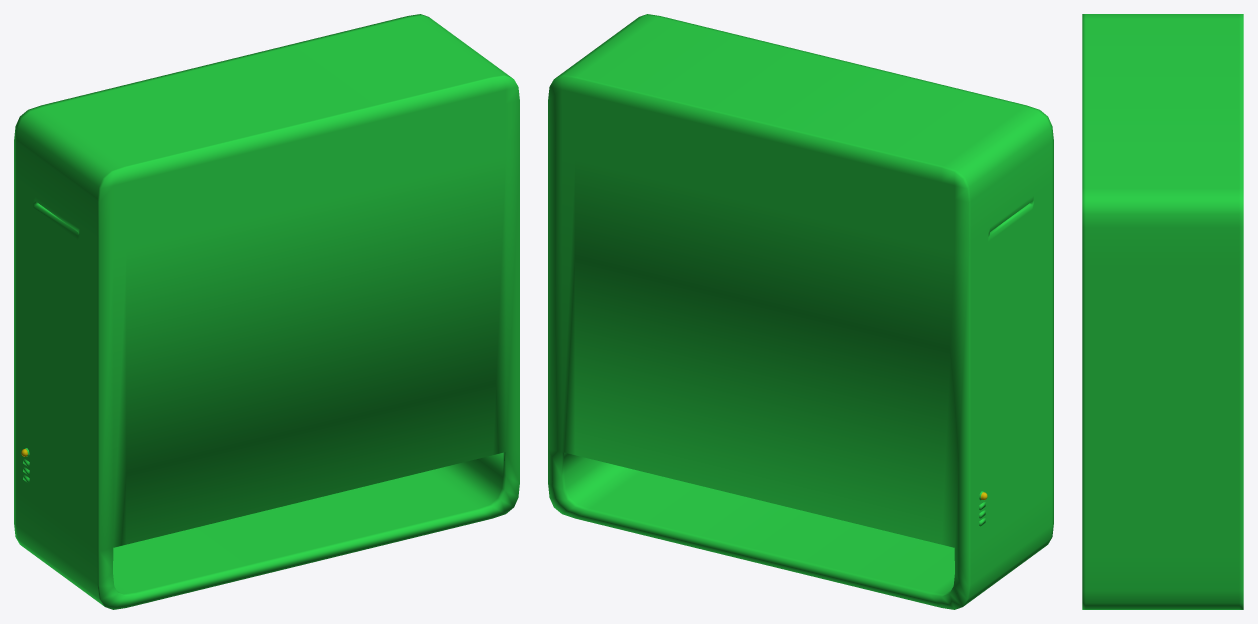
The model's file is MOD_ELE_CPU_case_01.fbx.
The picture shows the model from 3 angles, left to right: view 1: azimuth 30°, elevation 25°; view 2: azimuth 150°, elevation 25°; view 3: azimuth 270°, elevation 25°; orthographic projection. The views are drawn at different scales.
Visible parts, largest first — view 1: HSHP_MOD_CPU_case; view 2: HSHP_MOD_CPU_case; view 3: HSHP_MOD_CPU_case.
Part boxes in pixels (box(x1,y1,x2,y2)): HSHP_MOD_CPU_case: box(14, 14, 519, 609); HSHP_MOD_CPU_case: box(548, 14, 1053, 609); HSHP_MOD_CPU_case: box(1082, 14, 1243, 609).
Bounding box in the file's own units: 74.6 × 73.6 × 25.87.
